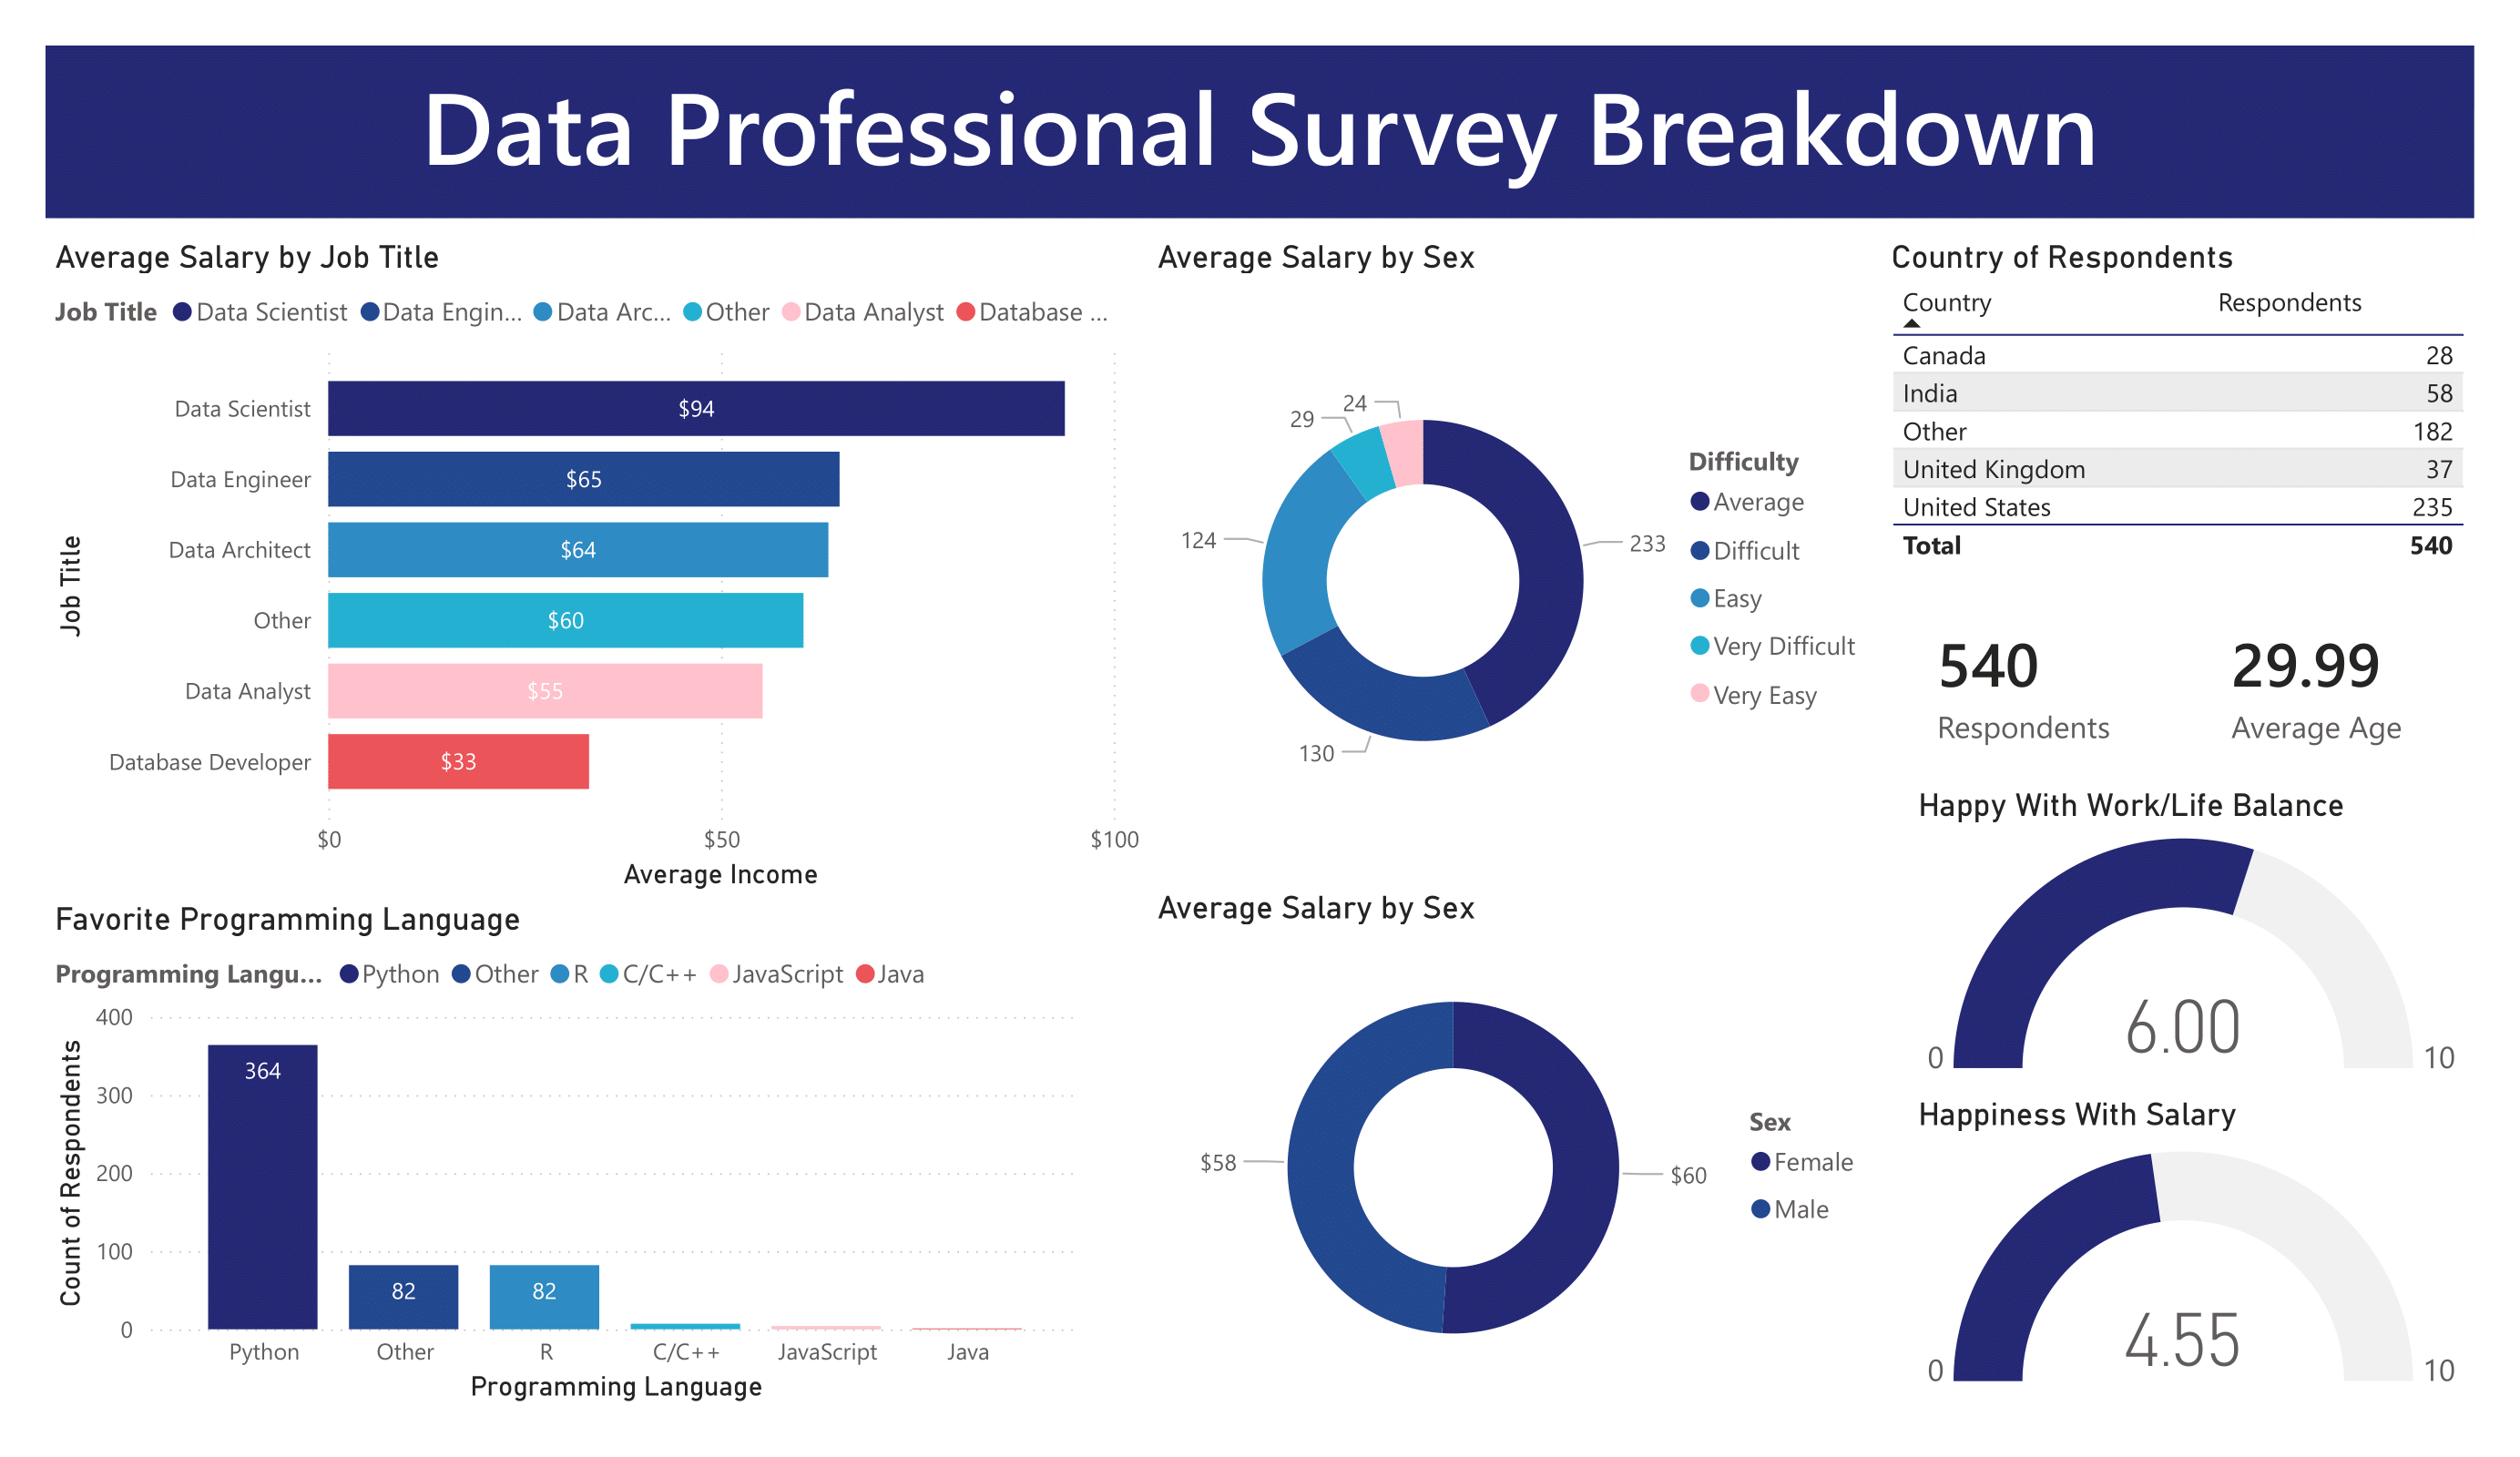

This screenshot's page, from the dashboard's own definition file:
{"tool":"powerbi","page":{"name":"Page 1","canvas":[1280,720],"ordinal":0},"visuals":[{"type":"textbox","box":[0,0,1280,91.4],"z":0},{"type":"cardVisual","fields":{"Data":["CountNonNull(Data Professional Survey.Unique ID)"]},"box":[967.8,282.1,160.5,108],"z":1000},{"type":"cardVisual","fields":{"Data":["Avg(Data Professional Survey.Q10 - Current Age)"]},"box":[1123.4,282.1,156.6,108],"z":2000},{"type":"barChart","title":"Average Salary by Job Title","fields":{"Category":["Data Professional Survey.Q1 - Which Title Best Fits your Current Role?.1"],"Y":["Avg(Data Professional Survey.Average Income)"],"Series":["Data Professional Survey.Q1 - Which Title Best Fits your Current Role?.1"]},"box":[0,101,581,349],"z":3000},{"type":"columnChart","title":"Favorite Programming Language","fields":{"Y":["CountNonNull(Data Professional Survey.Unique ID)"],"Category":["Data Professional Survey.Q5 - Favorite Programming Language.1"],"Series":["Data Professional Survey.Q5 - Favorite Programming Language.1"]},"box":[0,450,551,270],"z":4000},{"type":"tableEx","title":"Country of Respondents","fields":{"Values":["Data Professional Survey.Q11 - Which Country do you live in?.1","CountNonNull(Data Professional Survey.Q11 - Which Country do you live in?.1)"]},"box":[968,101,312,181],"z":5000},{"type":"gauge","title":"Happy With Work/Life Balance","fields":{"MaxValue":["Max(Data Professional Survey.Q6 - How Happy are you in your Current Position with the following? (Work/Life Balance))"],"MinValue":["Min(Data Professional Survey.Q6 - How Happy are you in your Current Position with the following? (Work/Life Balance))"],"Y":["Avg(Data Professional Survey.Q6 - How Happy are you in your Current Position with the following? (Work/Life Balance))1"]},"box":[982,390,298,163],"z":6000},{"type":"gauge","title":"Happiness With Salary","fields":{"Y":["Avg(Data Professional Survey.Q6 - How Happy are you in your Current Position with the following? (Salary))"],"MinValue":["Min(Data Professional Survey.Q6 - How Happy are you in your Current Position with the following? (Salary))1"],"MaxValue":["Max(Data Professional Survey.Q6 - How Happy are you in your Current Position with the following? (Salary))"]},"box":[982,553,298,167],"z":7000},{"type":"donutChart","title":"Average Salary by Sex","fields":{"Category":["Data Professional Survey.Q9 - Male/Female?"],"Y":["Avg(Data Professional Survey.Average Income)"]},"box":[580.7,443.5,387.1,276.2],"z":8000},{"type":"donutChart","title":"Average Salary by Sex","fields":{"Category":["Data Professional Survey.Q7 - How difficult was it for you to break into Data?"],"Y":["CountNonNull(Data Professional Survey.Q7 - How difficult was it for you to break into Data?)"]},"box":[580.7,101.2,387.1,342.4],"z":9000}]}

Visuals, with their boxes on the page's 1280x720 design canvas (x1, y1, x2, y2). These are canvas units, not pixel positions in the 2520x1457 screenshot, which may show the page scaled, cropped or inside an application window:
textbox: 0, 0, 1280, 91
cardVisual - CountNonNull(Data Professional Survey.Unique ID): 968, 282, 1128, 390
cardVisual - Avg(Data Professional Survey.Q10 - Current Age): 1123, 282, 1280, 390
"Average Salary by Job Title" barChart: 0, 101, 581, 450
"Favorite Programming Language" columnChart: 0, 450, 551, 720
"Country of Respondents" tableEx: 968, 101, 1280, 282
"Happy With Work/Life Balance" gauge: 982, 390, 1280, 553
"Happiness With Salary" gauge: 982, 553, 1280, 720
"Average Salary by Sex" donutChart: 581, 444, 968, 720
"Average Salary by Sex" donutChart: 581, 101, 968, 444
